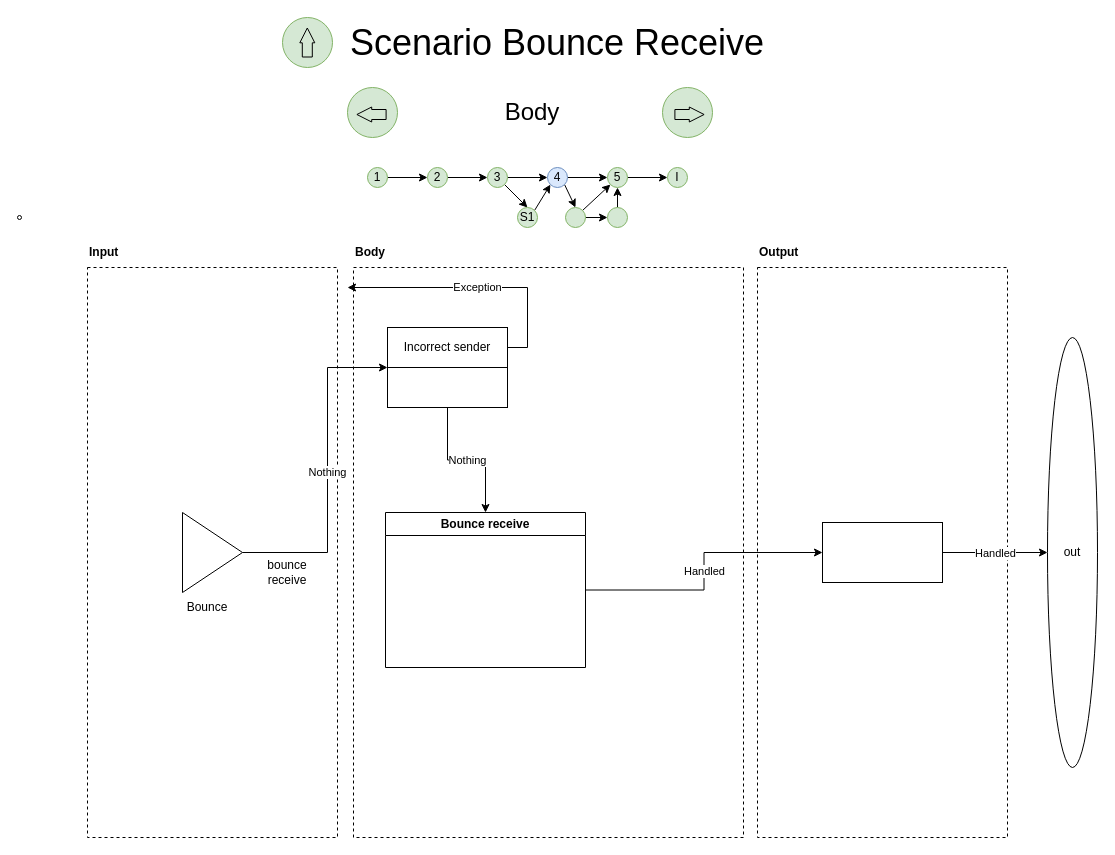
This 1115x855 diagram has some shape labels left out. Here are the shapes that lost their labels. From the top down, the centre of each, then its label:
At [575,217]: "T1".
At [617,217]: "S2".
At [447,387]: "Otherwise".
At [212,552]: "autotest".
At [882,552]: "Bounced message".
